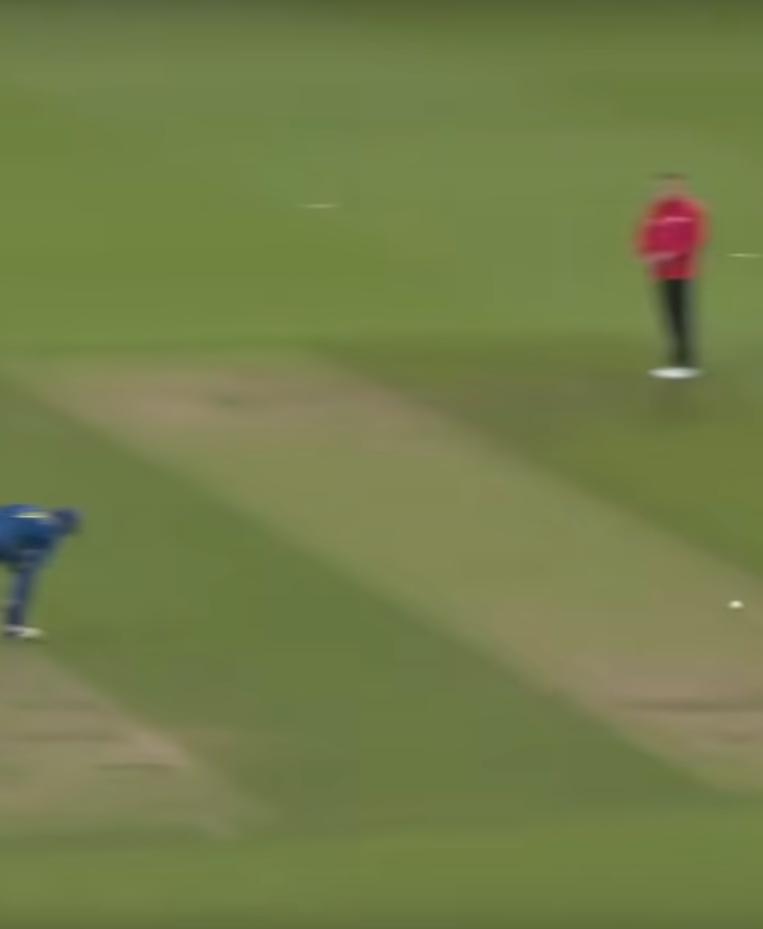Cricket-Ball: (716, 589, 755, 619)
